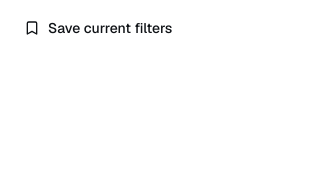
Test case: SavedFiltersPanel › deletes a saved preset
The image size is (332, 172).
Click the button "Save current filters".
click(98, 28)  # box [12,12,184,44]
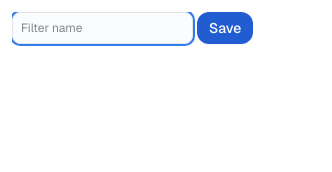
Type "Cursor only" into the field with placeholder "Filter name".
click(102, 28); type("Cursor only")  # box [12,12,193,44]
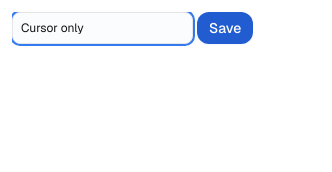
Click the button "Save".
click(225, 28)  # box [197,12,253,44]
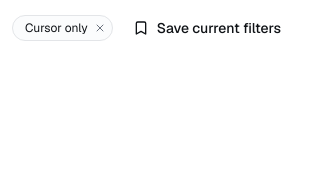
Expected: the button "Cursor only" is shown, [25,20,88,36]
Click the button named "delete saved filter".
click(100, 28)  # box [92,20,108,36]
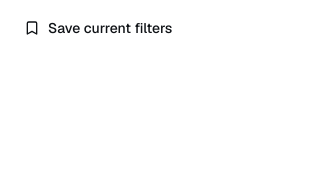
Expected: the button "Cursor only" is gone
